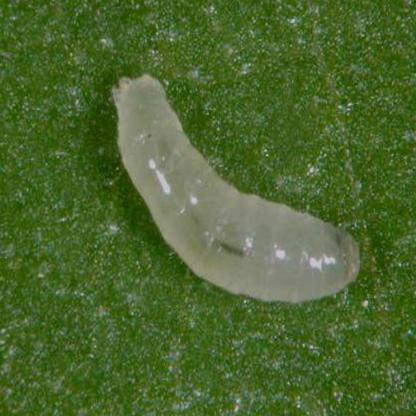whorl-maggot: (108, 66, 364, 308)
